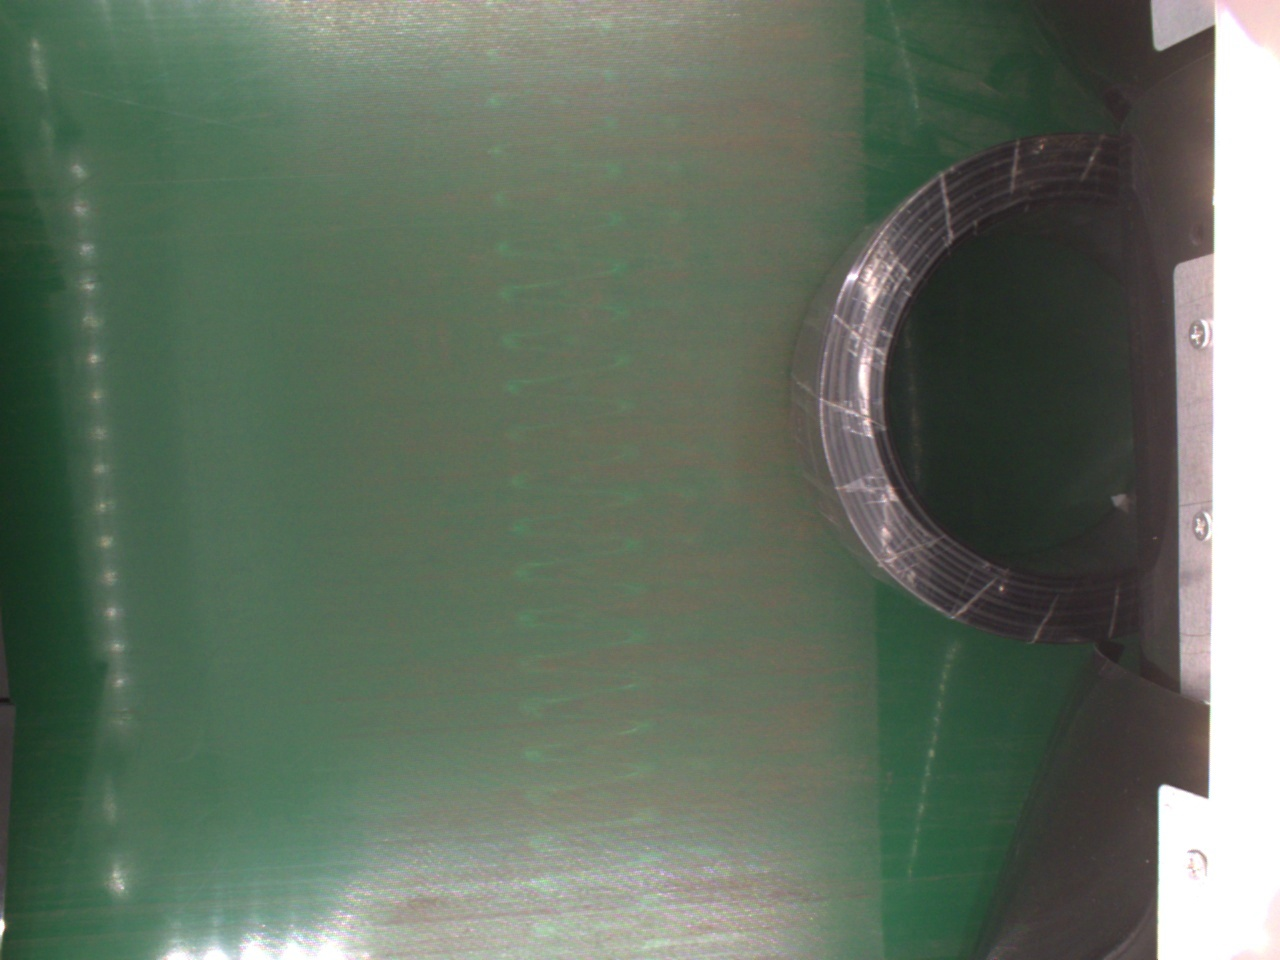black: (795, 129, 1148, 646)
